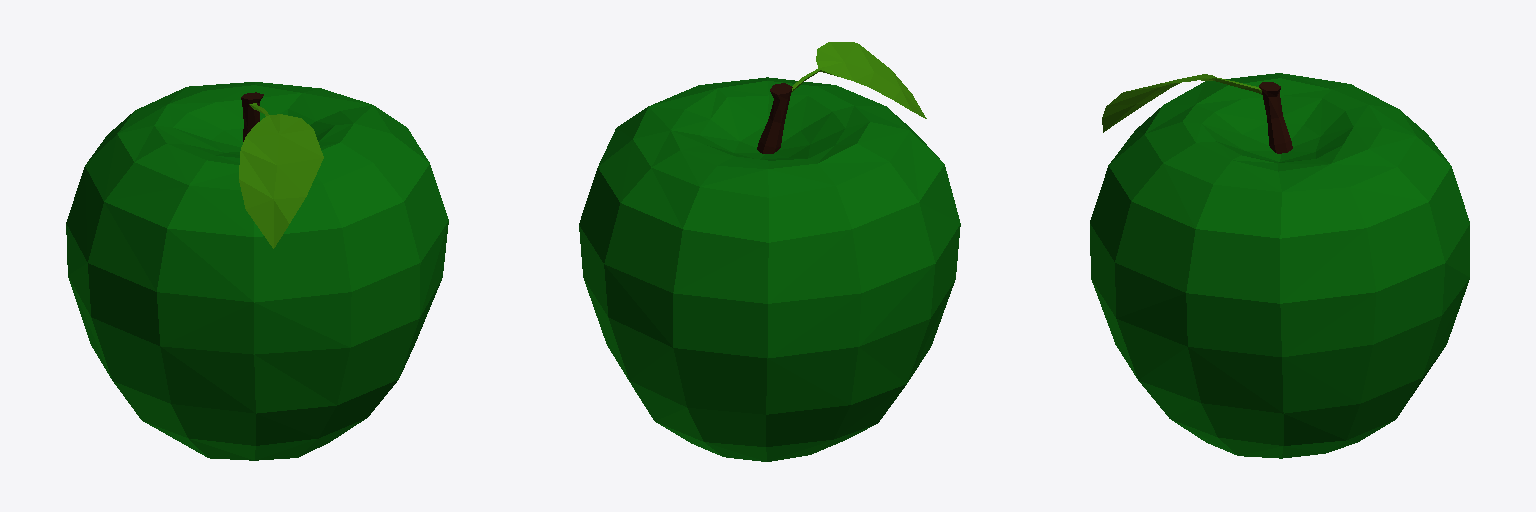
3 renders of one model, left to right at view 1: azimuth 30°, elevation 25°; view 2: azimuth 150°, elevation 25°; view 3: azimuth 270°, elevation 25°, orthographic.
Parts seen in each view (by area): view 1: group[number redacted], group[number redacted]; view 2: group[number redacted], group[number redacted]; view 3: group[number redacted], group[number redacted].
Part boxes in pixels (x1,y1,x2,y2): group[number redacted]: (66,82,448,460); group[number redacted]: (239,92,323,248); group[number redacted]: (579,77,960,461); group[number redacted]: (757,42,926,153); group[number redacted]: (1090,73,1469,458); group[number redacted]: (1102,74,1292,153).
Bounding box in the file's own units: 1.66 × 1.63 × 1.63.